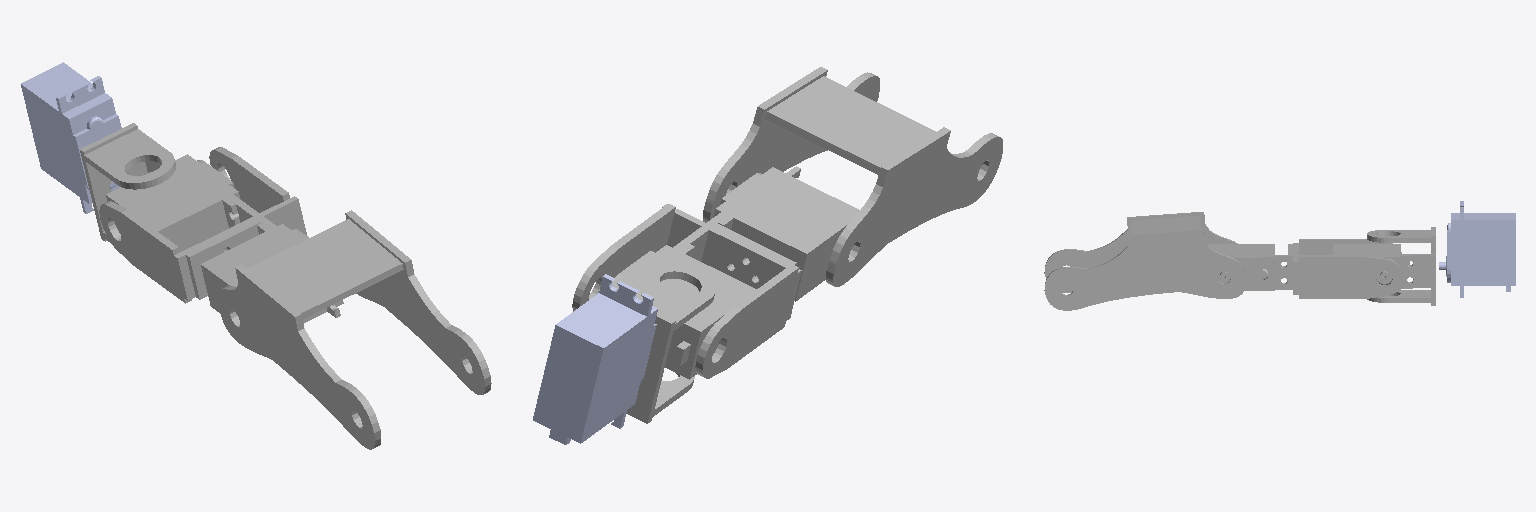
robot.urdf — Assem10_visual:
<?xml version="1.0" encoding="utf-8"?>
<!-- This URDF was automatically created by SolidWorks to URDF Exporter! Originally created by [author] ([email redacted]) 
     Commit Version: 1.6.0-4-g7f85cfe  Build Version: 1.6.7995.38578
     For more information, please see http://wiki.ros.org/sw_urdf_exporter -->
<robot
  name="Assem10_visual">
  <link
    name="base_link">
    <inertial>
      <origin
        xyz="-0.00717647369148372 0.271968313486189 0.0414876608737963"
        rpy="0 0 0" />
      <mass
        value="0.0324330072355437" />
      <inertia
        ixx="8.63564187395702E-06"
        ixy="1.21514277699486E-08"
        ixz="7.76541280328129E-07"
        iyy="5.58034114676458E-06"
        iyz="-5.09153879016956E-08"
        izz="5.56720479179505E-06" />
    </inertial>
    <visual>
      <origin
        xyz="0 0 0"
        rpy="0 0 0" />
      <geometry>
        <mesh
          filename="package://Assem10_visual/meshes/base_link.STL" />
      </geometry>
      <material
        name="">
        <color
          rgba="0.792156862745098 0.819607843137255 0.933333333333333 1" />
      </material>
    </visual>
    <collision>
      <origin
        xyz="0 0 0"
        rpy="0 0 0" />
      <geometry>
        <mesh
          filename="package://Assem10_visual/meshes/base_link.STL" />
      </geometry>
    </collision>
  </link>
  <link
    name="hip_Link">
    <inertial>
      <origin
        xyz="0.00180731276160201 -0.00836164741344506 0.000442740481063931"
        rpy="0 0 0" />
      <mass
        value="0.00819252451340341" />
      <inertia
        ixx="9.85683698113486E-07"
        ixy="1.24210912093877E-21"
        ixz="6.03637825618391E-09"
        iyy="8.56823450328505E-07"
        iyz="-5.36643675329181E-21"
        izz="9.57527130390923E-07" />
    </inertial>
    <visual>
      <origin
        xyz="0 0 0"
        rpy="0 0 0" />
      <geometry>
        <mesh
          filename="package://Assem10_visual/meshes/hip_Link.STL" />
      </geometry>
      <material
        name="">
        <color
          rgba="0.752941176470588 0.752941176470588 0.752941176470588 1" />
      </material>
    </visual>
    <collision>
      <origin
        xyz="0 0 0"
        rpy="0 0 0" />
      <geometry>
        <mesh
          filename="package://Assem10_visual/meshes/hip_Link.STL" />
      </geometry>
    </collision>
  </link>
  <joint
    name="hip_joint"
    type="revolute">
    <origin
      xyz="-0.0049045 0.2422 0.031968"
      rpy="0 0 0" />
    <parent
      link="base_link" />
    <child
      link="hip_Link" />
    <axis
      xyz="0 1 0" />
    <limit
      lower="-1.571"
      upper="1.571"
      effort="0.055"
      velocity="5.82" />
  </joint>
  <link
    name="thigh_Link">
    <inertial>
      <origin
        xyz="0.0246318254408482 -0.0180431075132355 0.00588664528558094"
        rpy="0 0 0" />
      <mass
        value="0.0474577407114943" />
      <inertia
        ixx="8.8598638302836E-06"
        ixy="-5.09345436720843E-08"
        ixz="-8.02343009959709E-07"
        iyy="6.98674583183772E-06"
        iyz="-1.20711636644903E-08"
        izz="1.20297809514324E-05" />
    </inertial>
    <visual>
      <origin
        xyz="0 0 0"
        rpy="0 0 0" />
      <geometry>
        <mesh
          filename="package://Assem10_visual/meshes/thigh_Link.STL" />
      </geometry>
      <material
        name="">
        <color
          rgba="0.752941176470588 0.752941176470588 0.752941176470588 1" />
      </material>
    </visual>
    <collision>
      <origin
        xyz="0 0 0"
        rpy="0 0 0" />
      <geometry>
        <mesh
          filename="package://Assem10_visual/meshes/thigh_Link.STL" />
      </geometry>
    </collision>
  </link>
  <joint
    name="thigh_joint"
    type="revolute">
    <origin
      xyz="-0.018838 -0.02734 -0.0044773"
      rpy="0 0 0" />
    <parent
      link="hip_Link" />
    <child
      link="thigh_Link" />
    <axis
      xyz="0.97268 0 0.23214" />
    <limit
      lower="0"
      upper="1.0472"
      effort="0.055"
      velocity="5.82" />
  </joint>
  <link
    name="leg_Link">
    <inertial>
      <origin
        xyz="-0.0285787935419678 -0.0129129269095195 -0.0031919559235554"
        rpy="0 0 0" />
      <mass
        value="0.0582940676653252" />
      <inertia
        ixx="2.74025472650784E-05"
        ixy="5.69416800838094E-07"
        ixz="-5.25835103236541E-07"
        iyy="9.05897383508179E-06"
        iyz="-2.16042458059863E-06"
        izz="2.94803397806849E-05" />
    </inertial>
    <visual>
      <origin
        xyz="0 0 0"
        rpy="0 0 0" />
      <geometry>
        <mesh
          filename="package://Assem10_visual/meshes/leg_Link.STL" />
      </geometry>
      <material
        name="">
        <color
          rgba="0.752941176470588 0.752941176470588 0.752941176470588 1" />
      </material>
    </visual>
    <collision>
      <origin
        xyz="0 0 0"
        rpy="0 0 0" />
      <geometry>
        <mesh
          filename="package://Assem10_visual/meshes/leg_Link.STL" />
      </geometry>
    </collision>
  </link>
  <joint
    name="leg_joint"
    type="revolute">
    <origin
      xyz="0.052517 -0.09411 0.01257"
      rpy="0 0 0" />
    <parent
      link="thigh_Link" />
    <child
      link="leg_Link" />
    <axis
      xyz="0.97268 0 0.23214" />
    <limit
      lower="-0.523"
      upper="1.0472"
      effort="0.055"
      velocity="5.82" />
  </joint>
  <link
    name="foot1_Link">
    <inertial>
      <origin
        xyz="-0.0291713766534113 0.00793930538079669 0.00101307844970946"
        rpy="0 0 0" />
      <mass
        value="0.0349573612548581" />
      <inertia
        ixx="5.7724859476221E-06"
        ixy="5.19624692095542E-08"
        ixz="6.24686798600047E-21"
        iyy="5.50484351057989E-06"
        iyz="-2.59767799566153E-20"
        izz="9.07608897611531E-06" />
    </inertial>
    <visual>
      <origin
        xyz="0 0 0"
        rpy="0 0 0" />
      <geometry>
        <mesh
          filename="package://Assem10_visual/meshes/foot1_Link.STL" />
      </geometry>
      <material
        name="">
        <color
          rgba="0.752941176470588 0.752941176470588 0.752941176470588 1" />
      </material>
    </visual>
    <collision>
      <origin
        xyz="0 0 0"
        rpy="0 0 0" />
      <geometry>
        <mesh
          filename="package://Assem10_visual/meshes/foot1_Link.STL" />
      </geometry>
    </collision>
  </link>
  <joint
    name="foot1_joint"
    type="revolute">
    <origin
      xyz="0.0015755 -0.092752 -0.0066013"
      rpy="0 -0.23428 0" />
    <parent
      link="leg_Link" />
    <child
      link="foot1_Link" />
    <axis
      xyz="1 0 0" />
    <limit
      lower="0"
      upper="0.523"
      effort="0.055"
      velocity="5.83" />
  </joint>
  <link
    name="foot2_Link">
    <inertial>
      <origin
        xyz="0.0011633 -0.0060341 -0.00017497"
        rpy="0 0 0" />
      <mass
        value="0.055753" />
      <inertia
        ixx="2.3892E-05"
        ixy="-1.2524E-08"
        ixz="2.7681E-06"
        iyy="2.7648E-05"
        iyz="5.0827E-08"
        izz="1.3087E-05" />
    </inertial>
    <visual>
      <origin
        xyz="0 0 0"
        rpy="0 0 0" />
      <geometry>
        <mesh
          filename="package://Assem10_visual/meshes/foot2_Link.STL" />
      </geometry>
      <material
        name="">
        <color
          rgba="0.75294 0.75294 0.75294 1" />
      </material>
    </visual>
    <collision>
      <origin
        xyz="0 0 0"
        rpy="0 0 0" />
      <geometry>
        <mesh
          filename="package://Assem10_visual/meshes/foot2_Link.STL" />
      </geometry>
    </collision>
  </link>
  <joint
    name="foot2_joint"
    type="revolute">
    <origin
      xyz="-0.017637 -0.092752 -0.032262"
      rpy="0 0 0" />
    <parent
      link="leg_Link" />
    <child
      link="foot2_Link" />
    <axis
      xyz="-0.23214 0 0.97268" />
    <limit
      lower="-1.57"
      upper="1.57"
      effort="0.055"
      velocity="5.83" />
  </joint>
</robot>

--- Render facts (derived) ---
3 views of the same robot in one strip: view 1: azimuth 30°, elevation 25°; view 2: azimuth 150°, elevation 25°; view 3: azimuth 270°, elevation 25° (orthographic).
Robot: Assem10_visual — 6 links, 5 joints (5 revolute); root link base_link; default pose: all joints at 0.
Visible links, largest first — view 1: leg_Link, thigh_Link, base_link, hip_Link; view 2: leg_Link, thigh_Link, base_link, hip_Link; view 3: leg_Link, thigh_Link, base_link, hip_Link.
Boxes of the visible links, x1,y1,x2,y2 form: leg_Link: [201, 210, 491, 449]; thigh_Link: [99, 147, 307, 303]; base_link: [21, 62, 121, 213]; hip_Link: [80, 123, 175, 242]; leg_Link: [703, 67, 1002, 301]; thigh_Link: [572, 204, 801, 379]; base_link: [533, 274, 657, 444]; hip_Link: [626, 263, 715, 423]; leg_Link: [1044, 212, 1286, 310]; thigh_Link: [1275, 239, 1412, 298]; base_link: [1439, 201, 1515, 297]; hip_Link: [1367, 227, 1435, 305].
Bounding box of the posed robot: 0.0638 × 0.277 × 0.0619 m (x, y, z).
Meshes: 6 distinct files referenced, 4 mesh visuals loaded (4 binary STL); not drawn: 2 (reference not matched to a file when rendering).